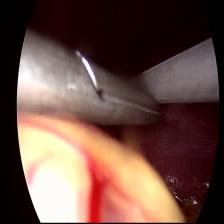Grasper: (35, 32, 165, 133)
